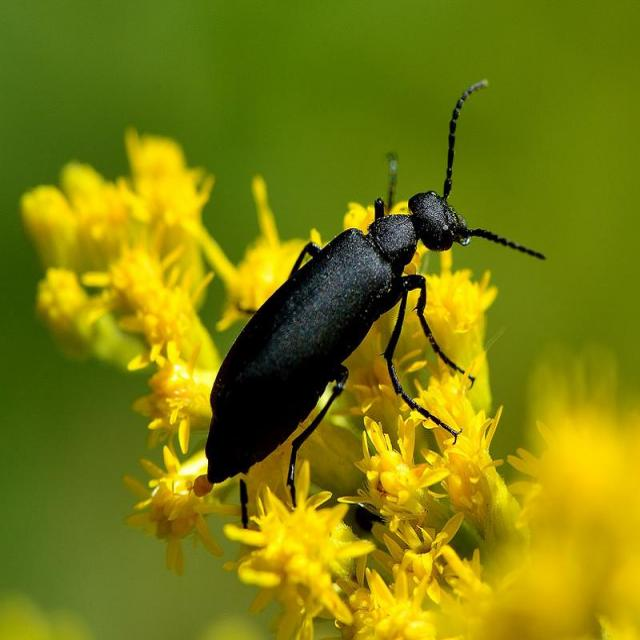BlisterBeetle-Adult-: (198, 68, 553, 506)
